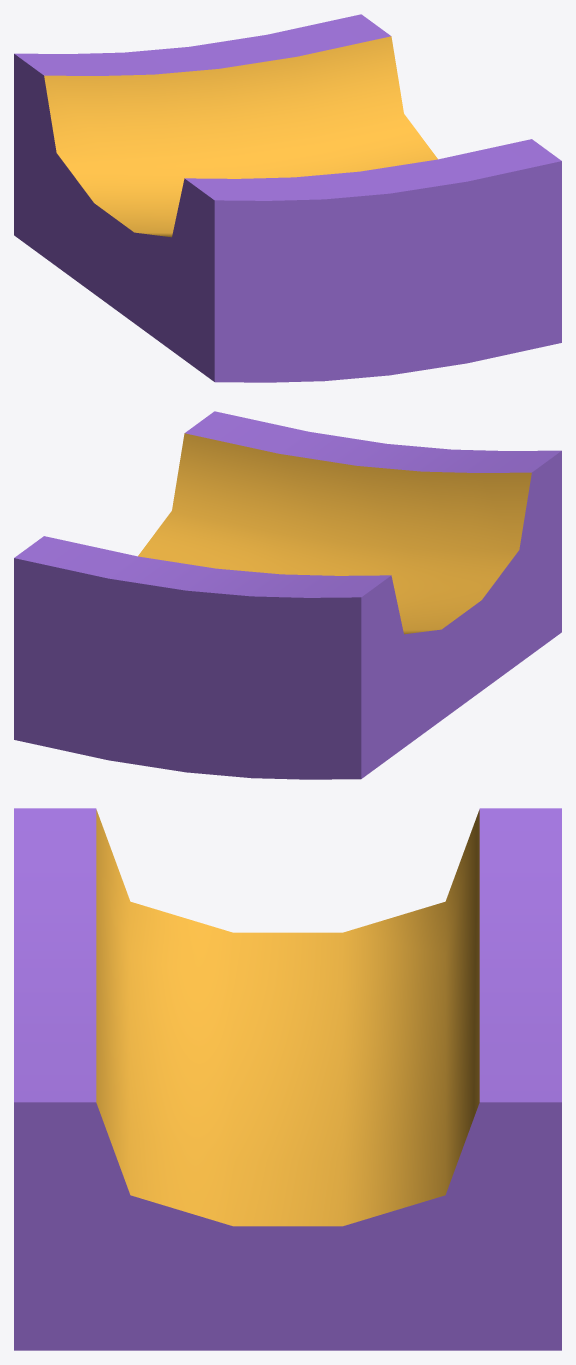
The model's file is ramp-start-a-col.glb.
3 views of the same model, one above another, from view 1: azimuth 30°, elevation 25°; view 2: azimuth 150°, elevation 25°; view 3: azimuth 270°, elevation 25° (orthographic). The views are drawn at different scales.
Visible parts, largest first — view 1: ramp-start-a-col; view 2: ramp-start-a-col; view 3: ramp-start-a-col.
Part boxes in pixels (bbox=[...]): ramp-start-a-col: bbox=[14, 14, 561, 382]; ramp-start-a-col: bbox=[14, 411, 561, 779]; ramp-start-a-col: bbox=[14, 808, 561, 1350].
Bounding box in the file's own units: 1 × 0.625 × 1.
Materials: 1 (1 with a texture image).
